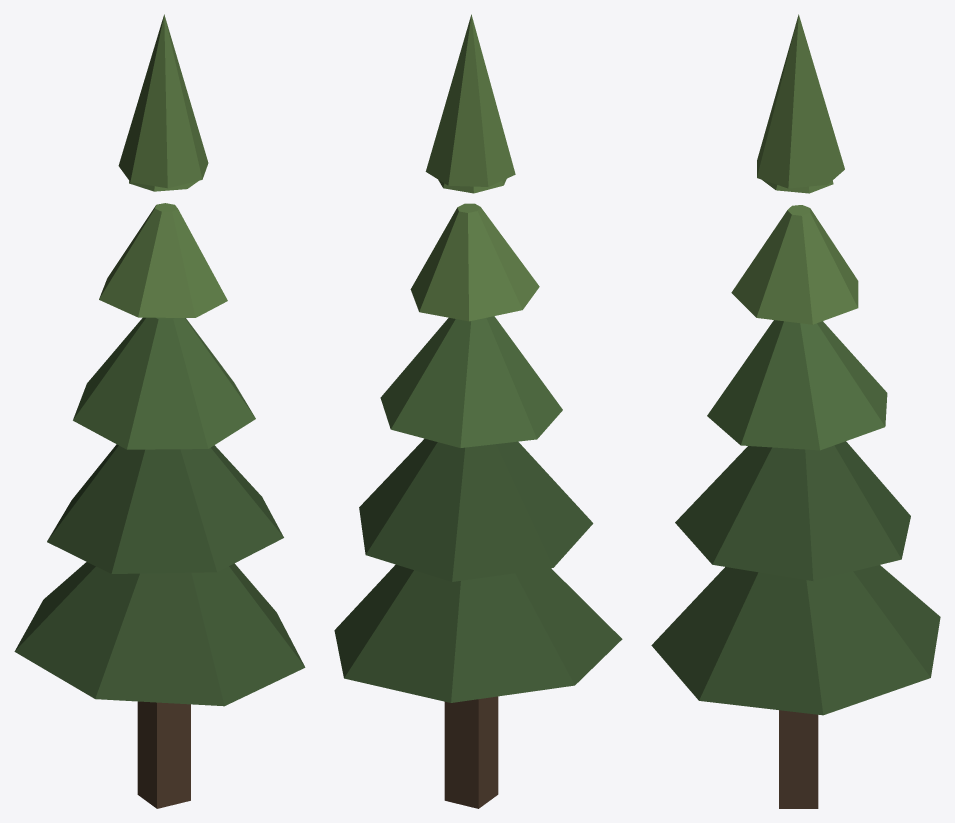
Rendered from pine.glb.
The picture shows the model from 3 angles, left to right: view 1: azimuth 30°, elevation 25°; view 2: azimuth 150°, elevation 25°; view 3: azimuth 270°, elevation 25°; orthographic projection.
Parts seen in each view (by area): view 1: Pine; view 2: Pine; view 3: Pine.
Part boxes in pixels (x1,y1,x2,y2): Pine: (14,14,305,808); Pine: (334,14,622,808); Pine: (651,14,940,808).
Bounding box in the file's own units: 0.8155 × 2.43 × 0.8094.
